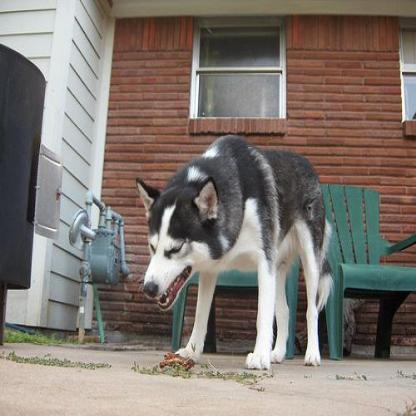Siberian_husky: (136, 134, 332, 367)
